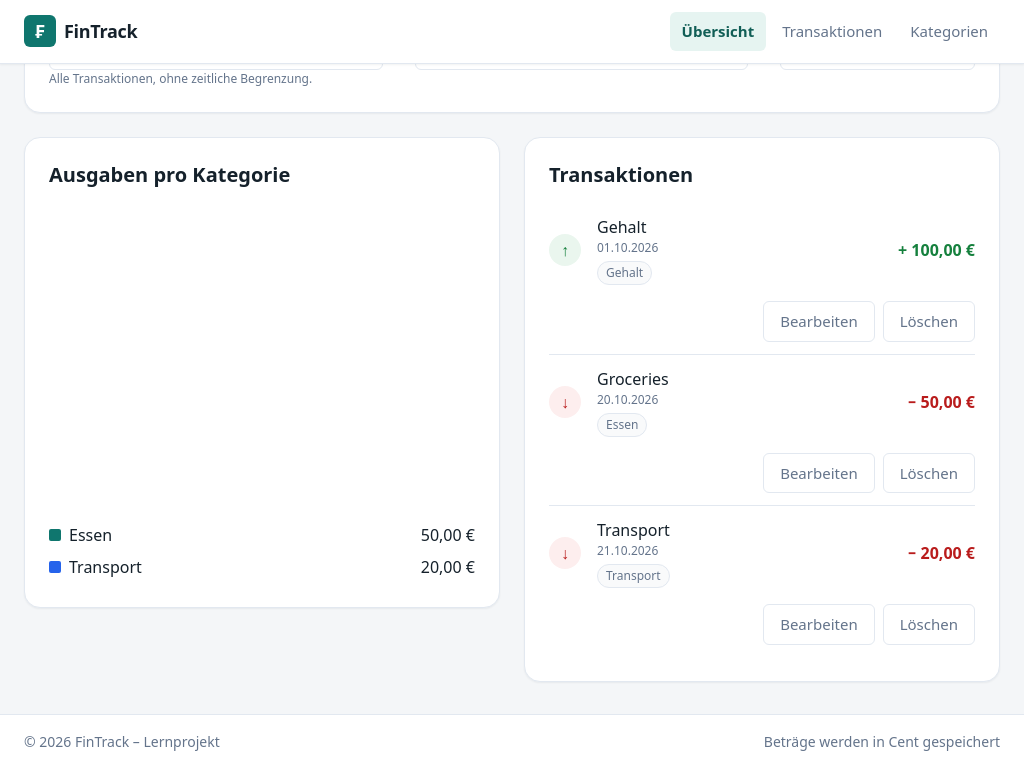
Test: shared transaction filters › does not recreate a transaction deleted while its editor is open
(page scrolled)
Step 1. Click the button with aria-label "Groceries vom 20.10.2026, 50,00 € bearbeiten" → [819, 473], box x1=763 y1=452 x2=875 y2=493
(page scrolled)
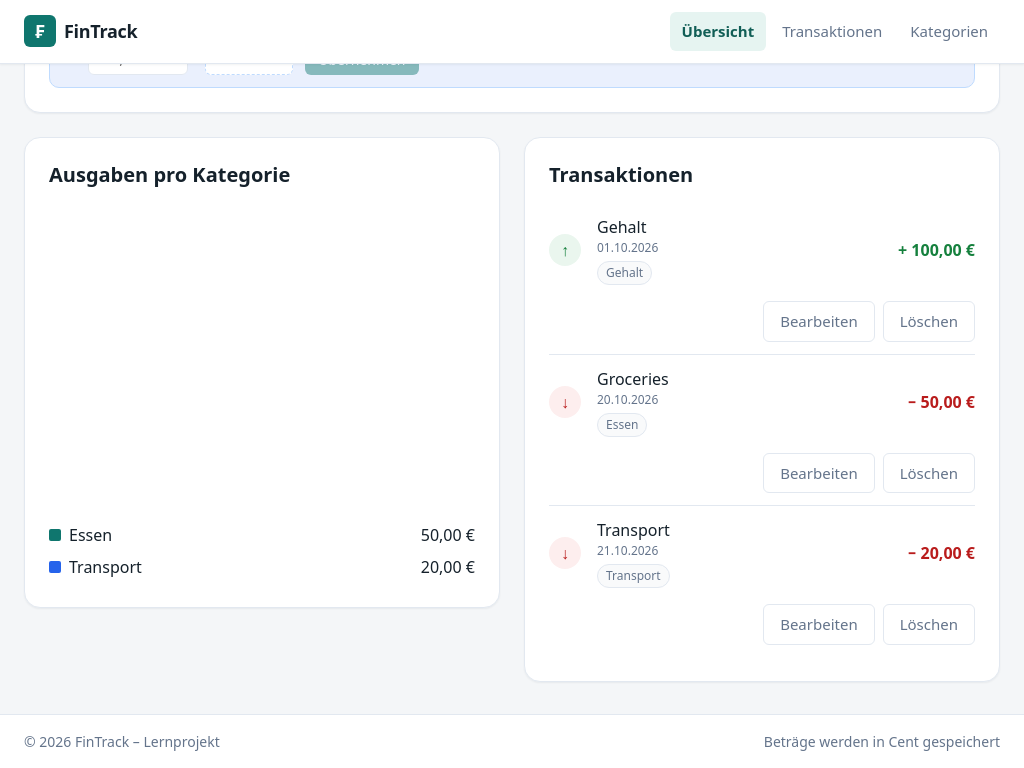
Step 2. Click the button with aria-label "Groceries vom 20.10.2026, 50,00 € löschen" → [929, 473], box x1=883 y1=452 x2=975 y2=493
(page scrolled)
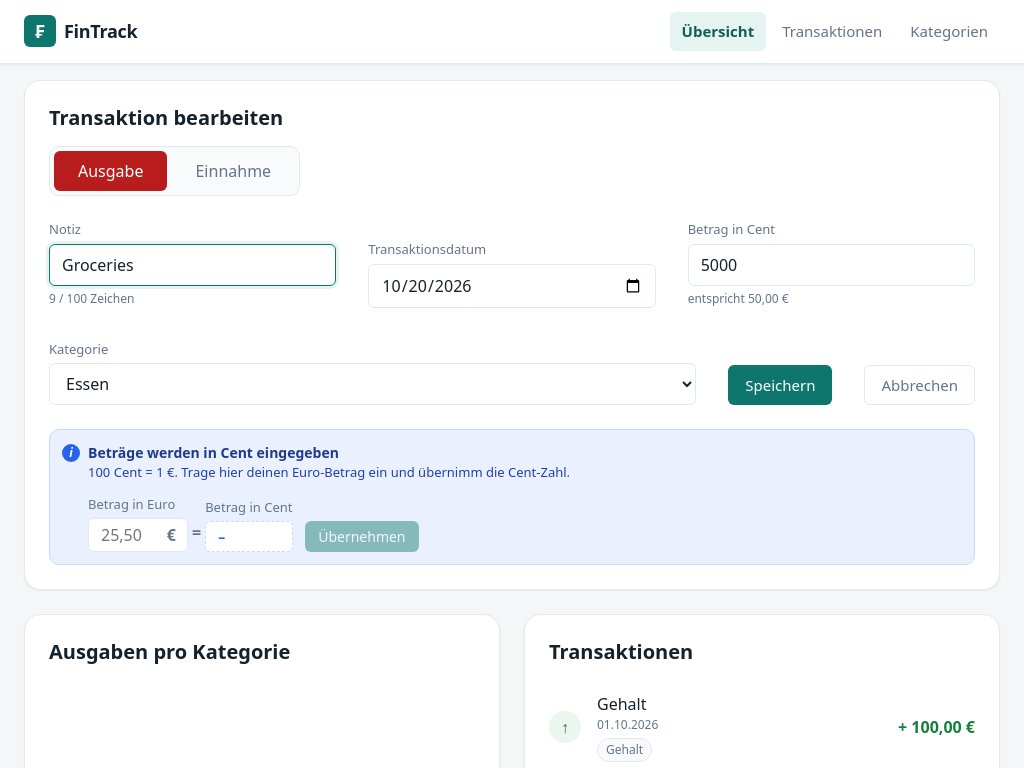
Step 3. Click the button "Speichern" → [780, 385], box x1=728 y1=364 x2=832 y2=405
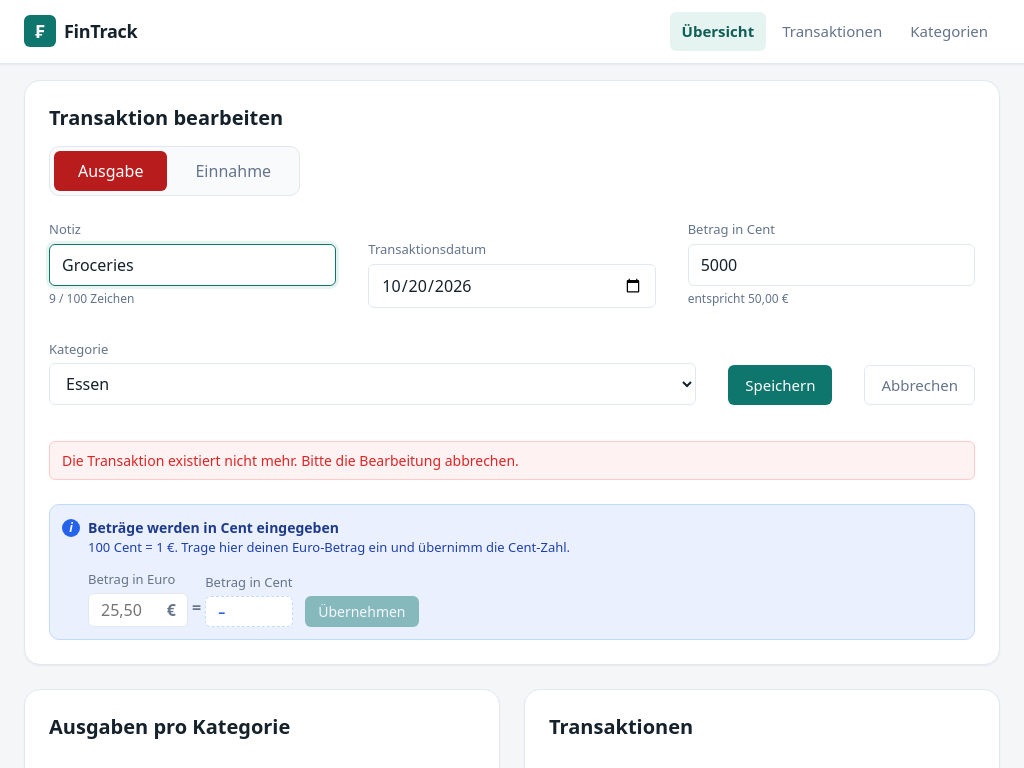
Result: the message shows "existiert nicht mehr" at x1=62 y1=451 x2=519 y2=470
